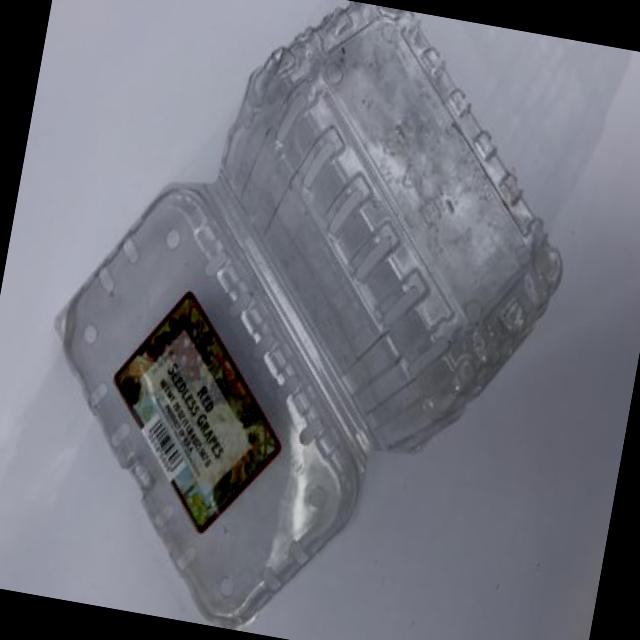Trash: (2, 0, 605, 640)
